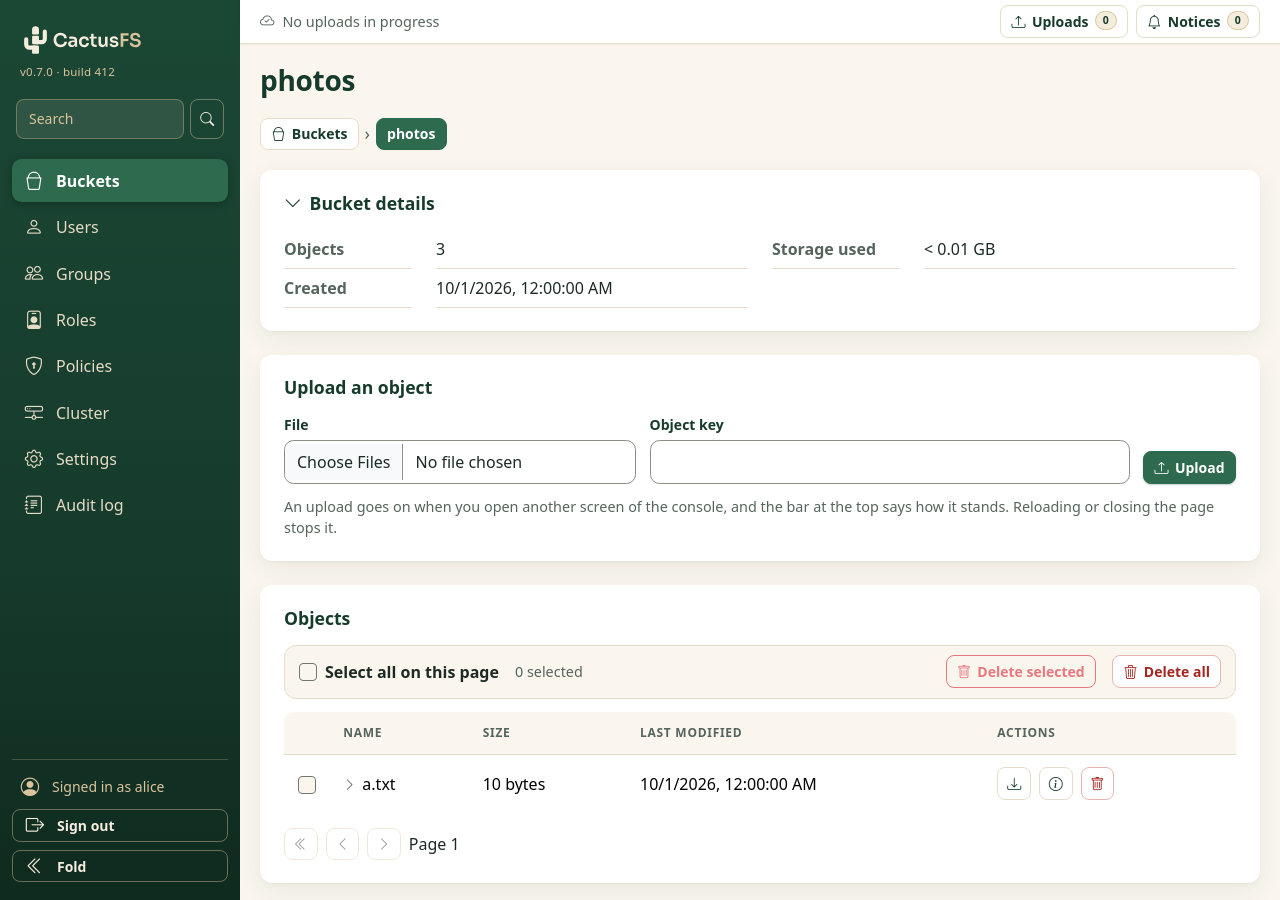
Test: a bucket's details on its page › shows the details, and folds them all the same, when the browser refuses its storage
Expected: the heading "photos" is shown, [260,61,355,99]
Step 1. Click the button "Bucket details" → coordinates (359, 203), box [284,193,435,214]
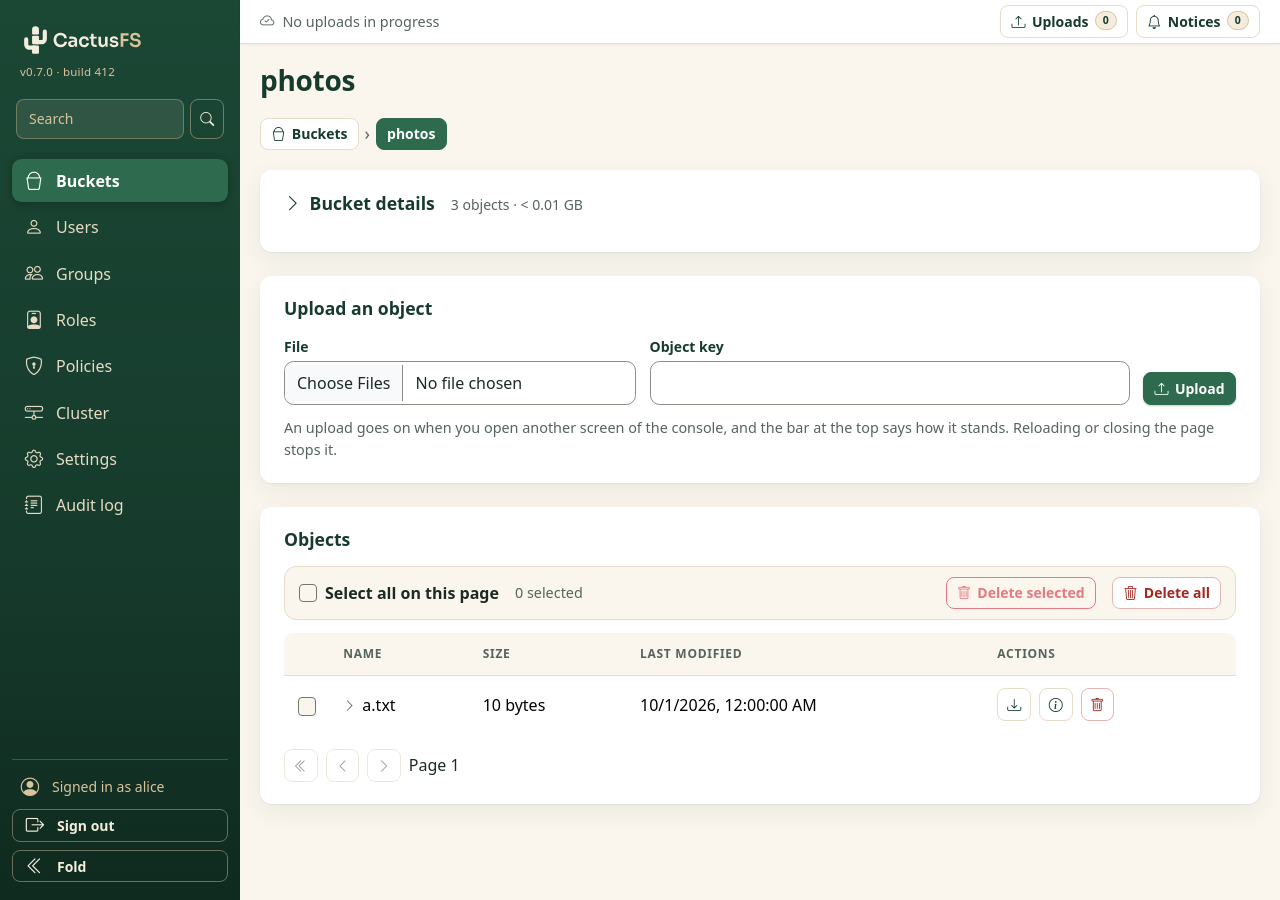
Expected: the button "Bucket details" is collapsed, [284,193,435,214]
Expected: the text "3 objects · < 0.01 GB" is shown, [451,197,583,213]
